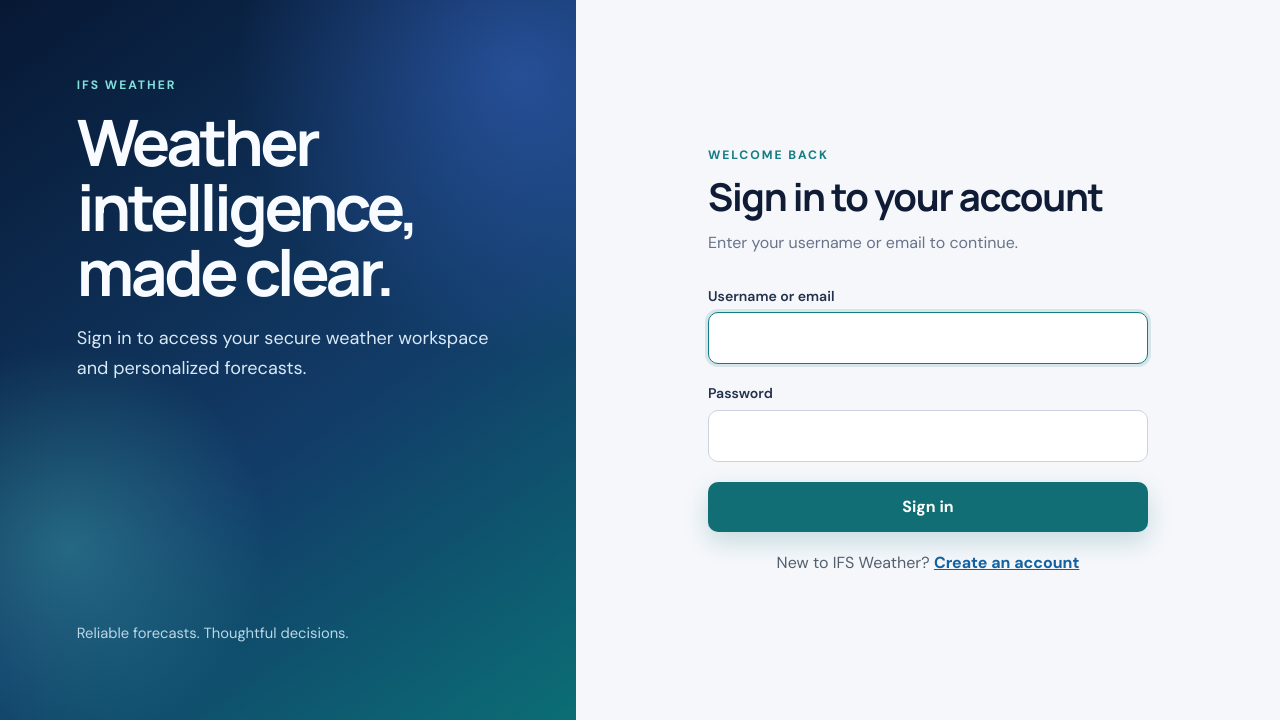
it: AdminUsersPage › enforces pagination boundaries and requests the next page
In the field labelled "Username or email": point(928, 338) [708,312,1148,364], type "test.admin"
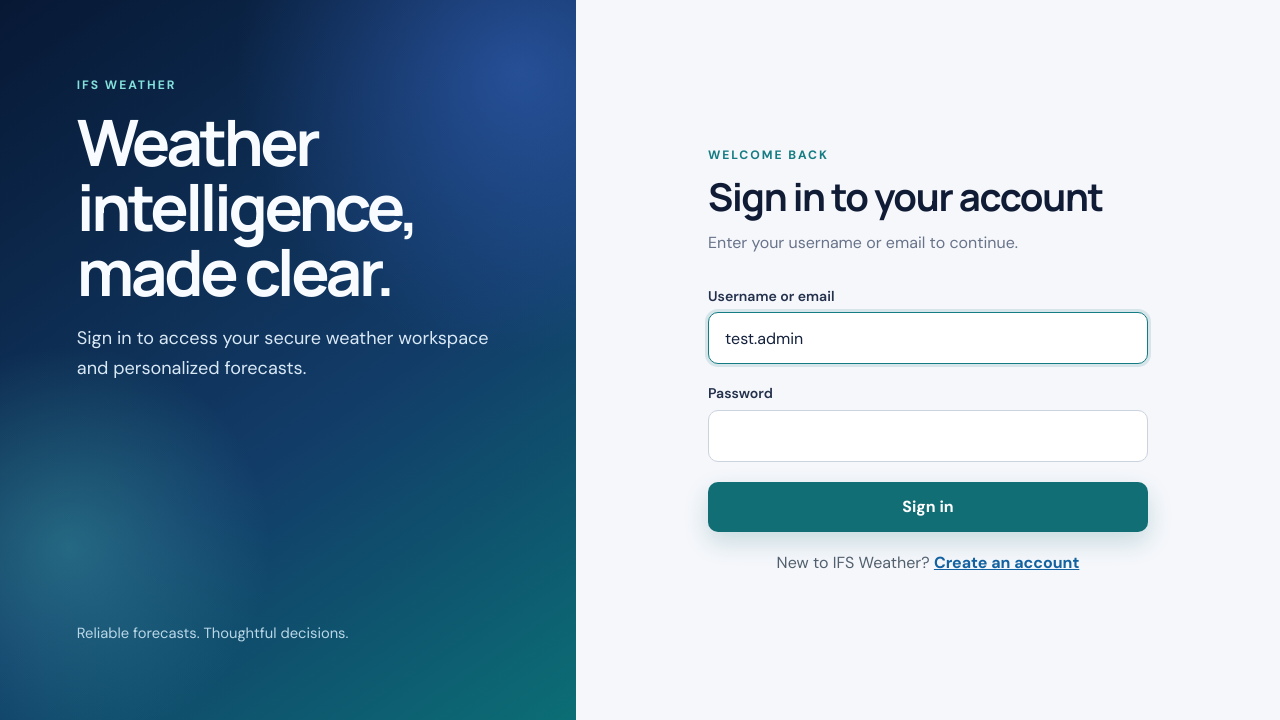
In the password field labelled "Password": point(928, 436) [708,410,1148,462], type "TestPass1"
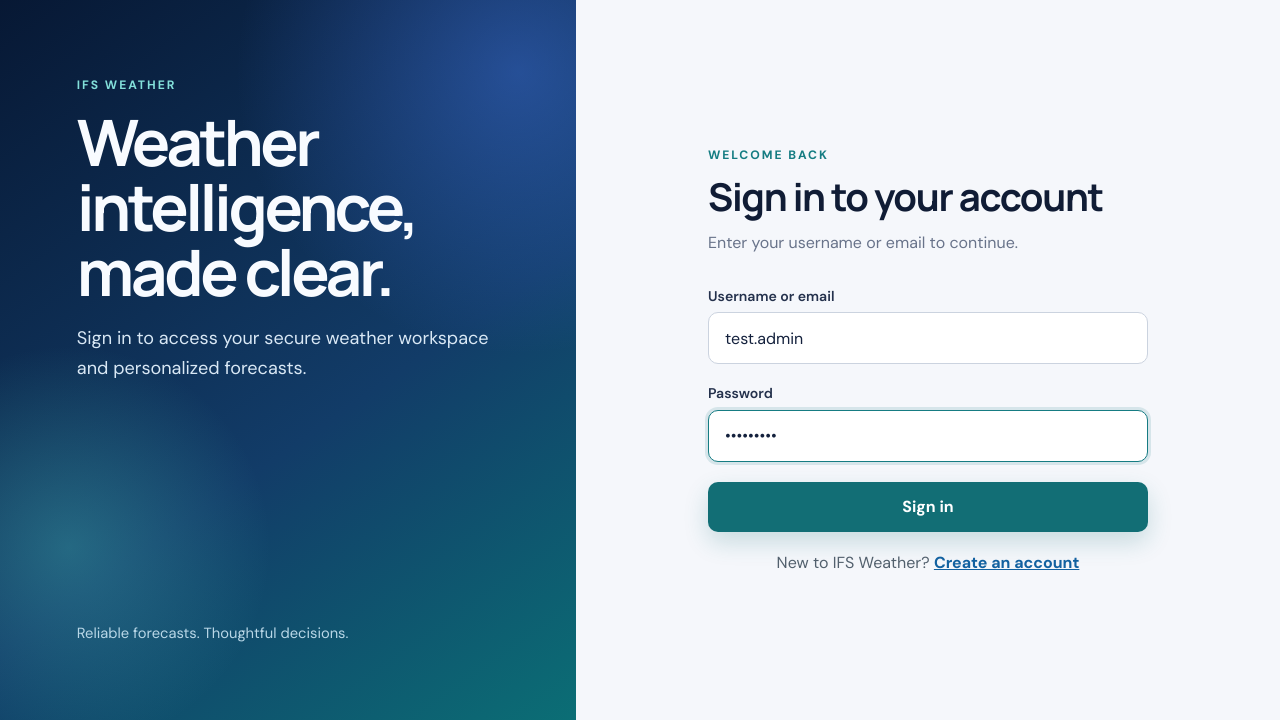
Click the button "Sign in": point(928, 507) [708,482,1148,532]
(page scrolled)
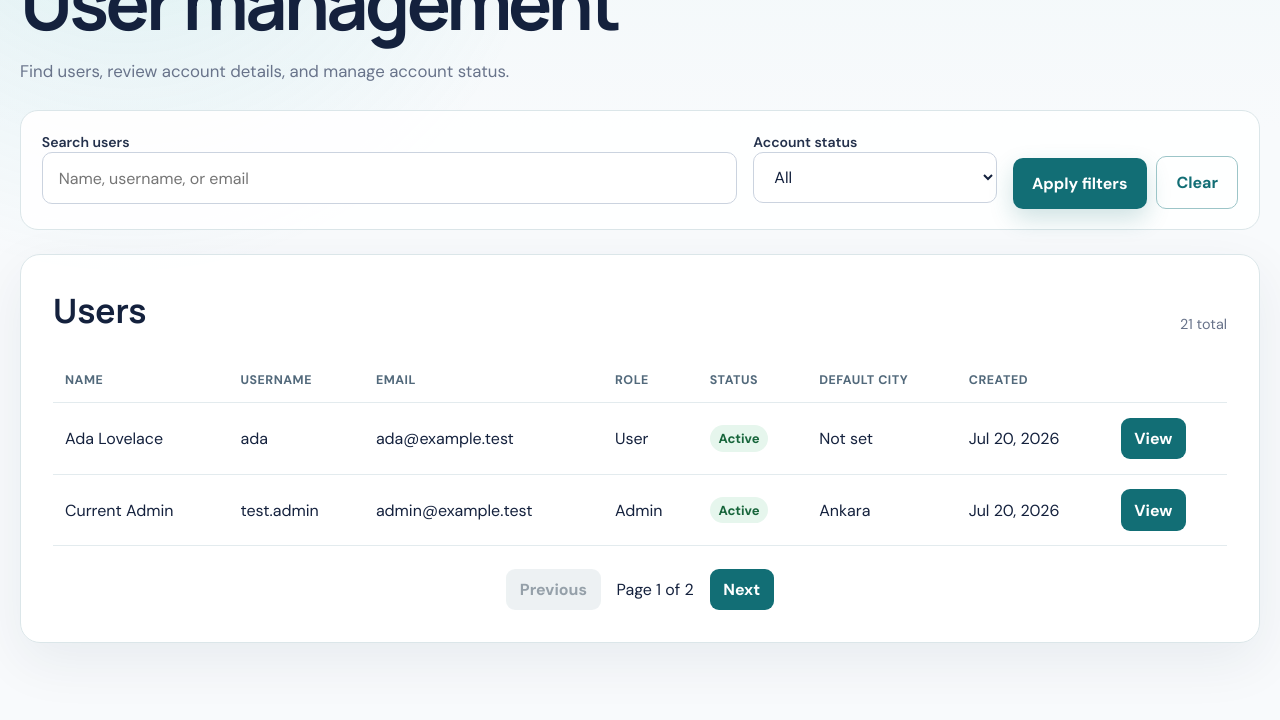
Result: the button with aria-label "Previous page" is disabled at [506,569,600,610]
Double-click the button with aria-label "Next page": point(742, 590) [710,569,774,610]
(page scrolled)
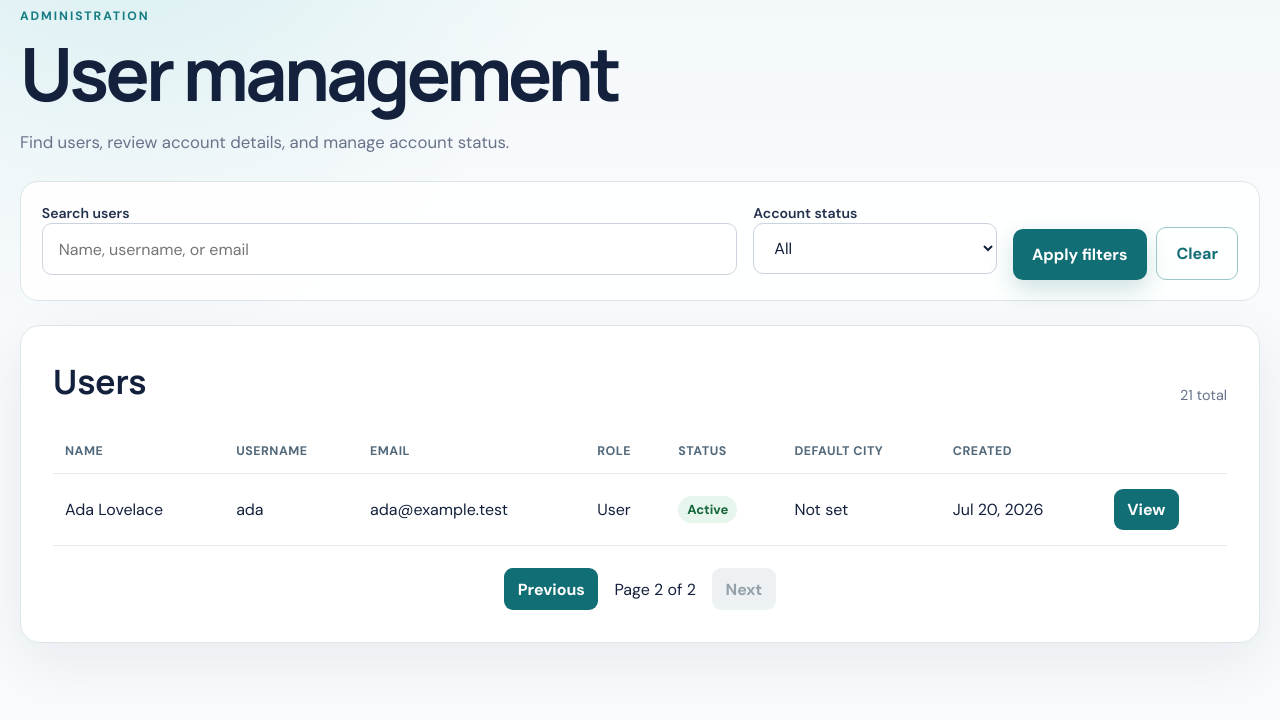
Result: the text "Page 2 of 2" is shown at [614,578,696,600]
Result: the button with aria-label "Next page" is disabled at [712,568,776,610]
